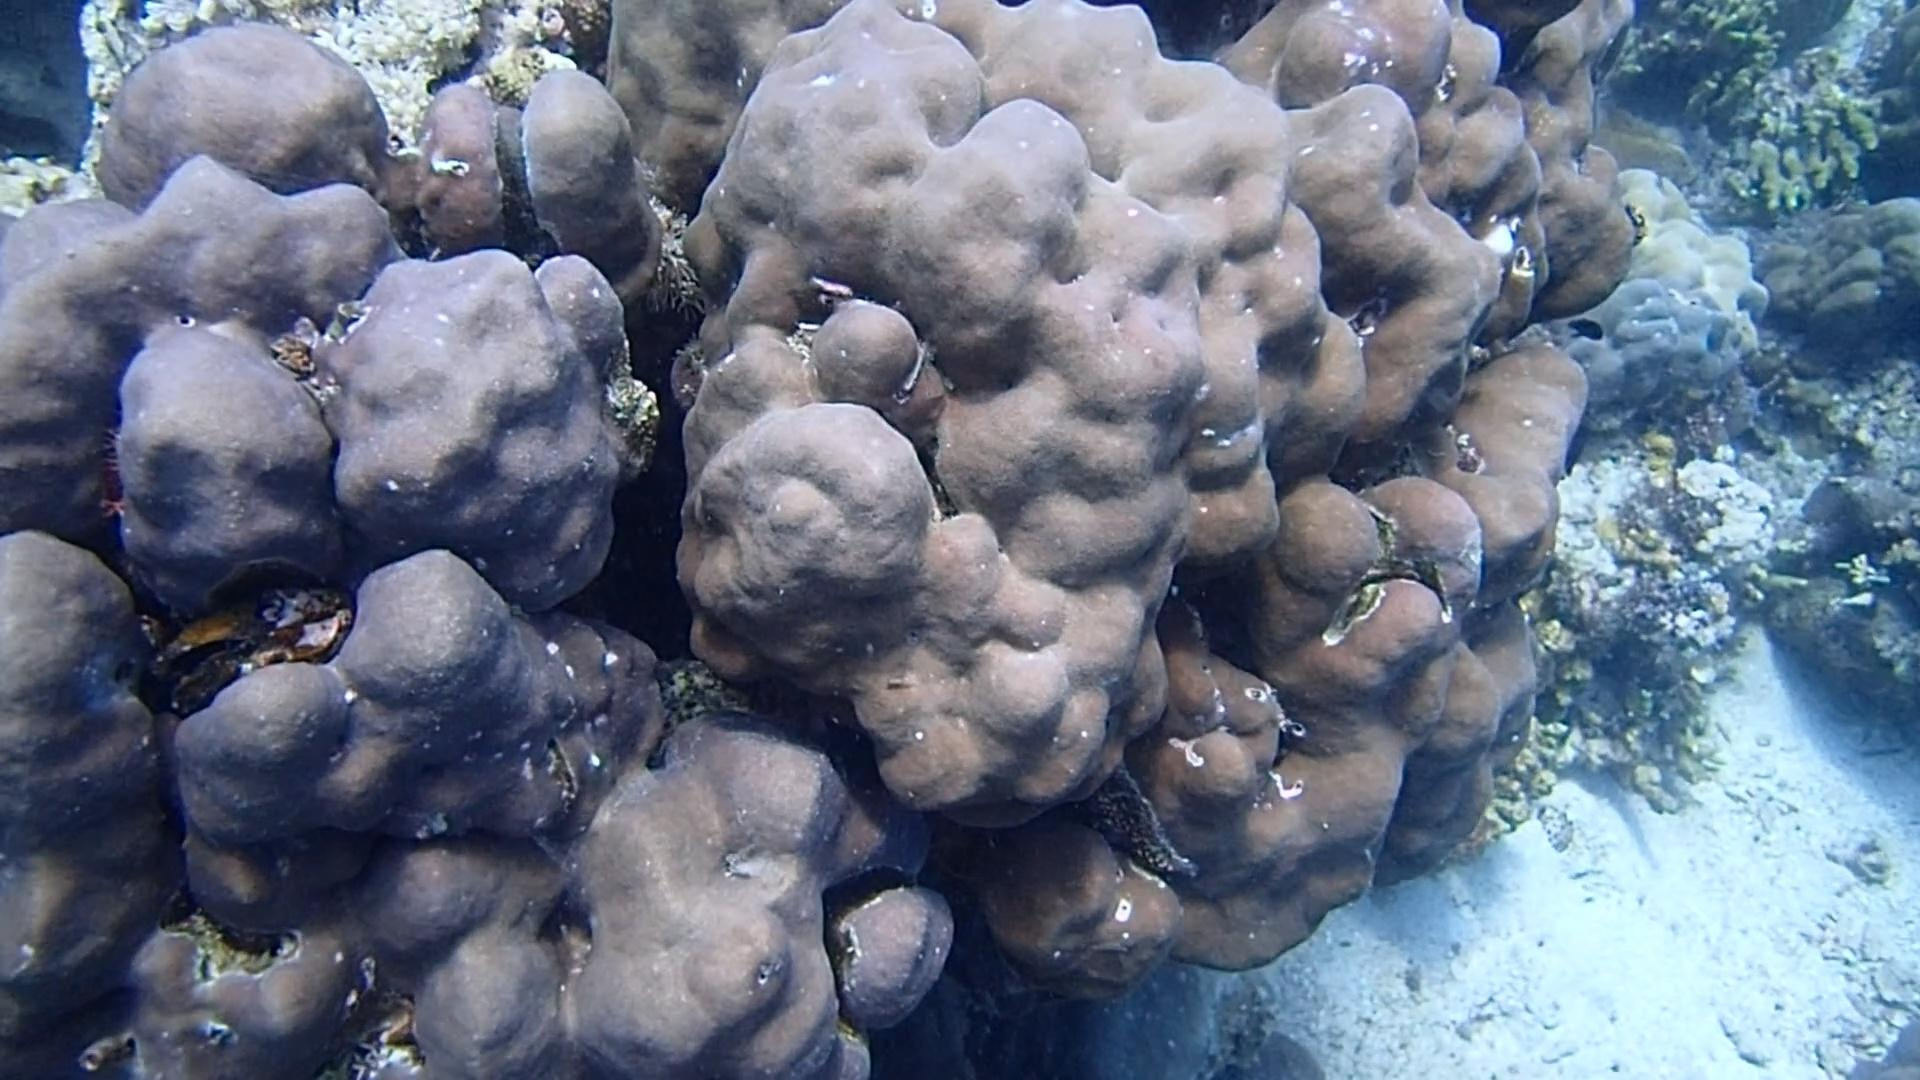Dark Fish: (1561, 313, 1606, 348)
